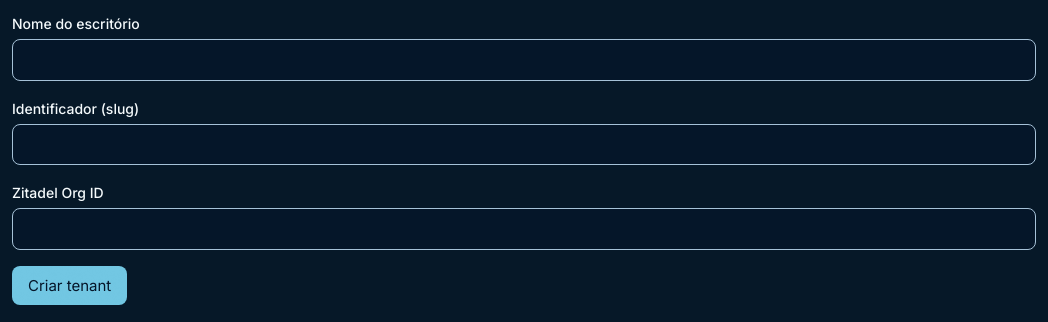
Scenario: CreateTenantForm › deve desabilitar botão durante submissão
The width and height of the screenshot is (1048, 322).
Type "Studio Test" into the field labelled "Nome do escritório" at (524, 60), box [12, 39, 1036, 81]
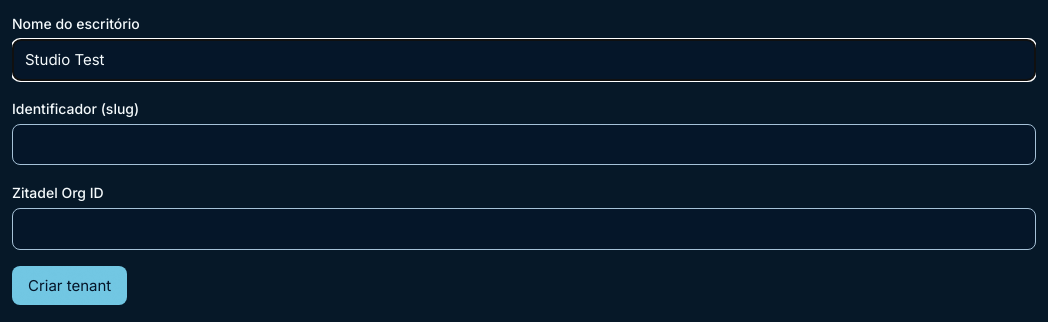
Type "studio-test" into the field labelled "Identificador (slug)" at (524, 144), box [12, 124, 1036, 165]
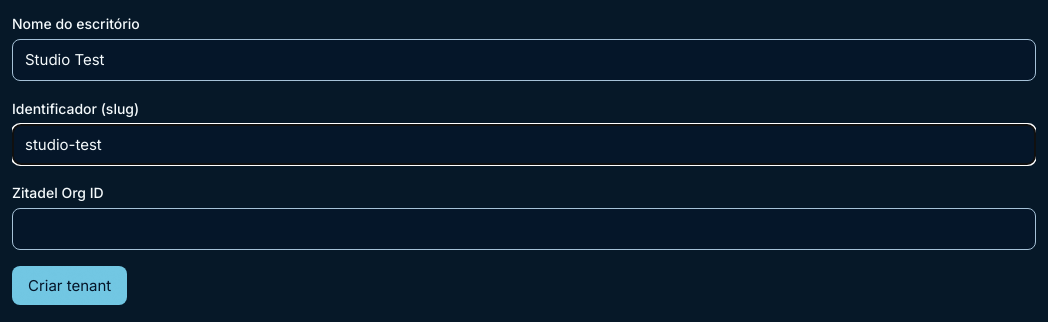
Type "org-1" into the field labelled "Zitadel Org ID" at (524, 229), box [12, 208, 1036, 250]
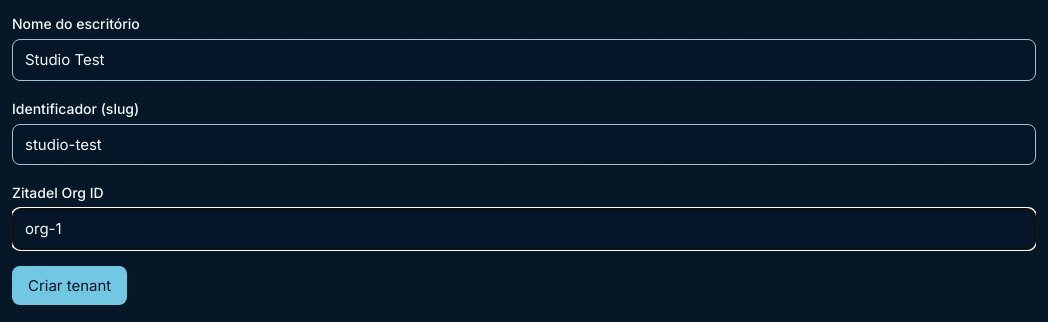
Click the button "Criar tenant" at (70, 285), box [12, 266, 127, 305]
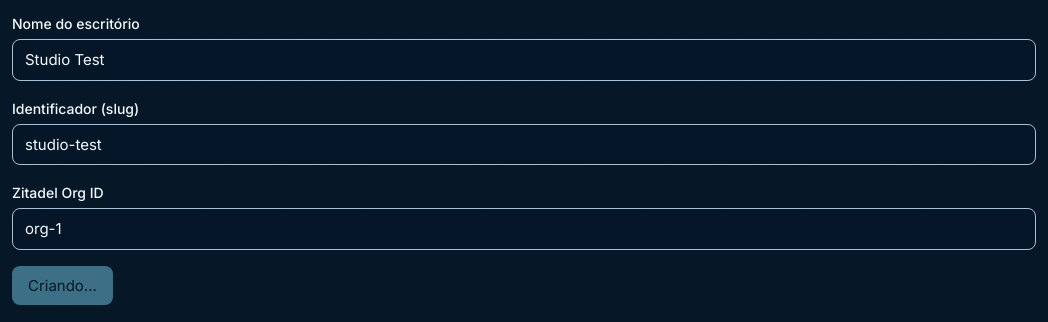
Expected: the button named "criar tenant" is disabled, [12, 266, 113, 305]
